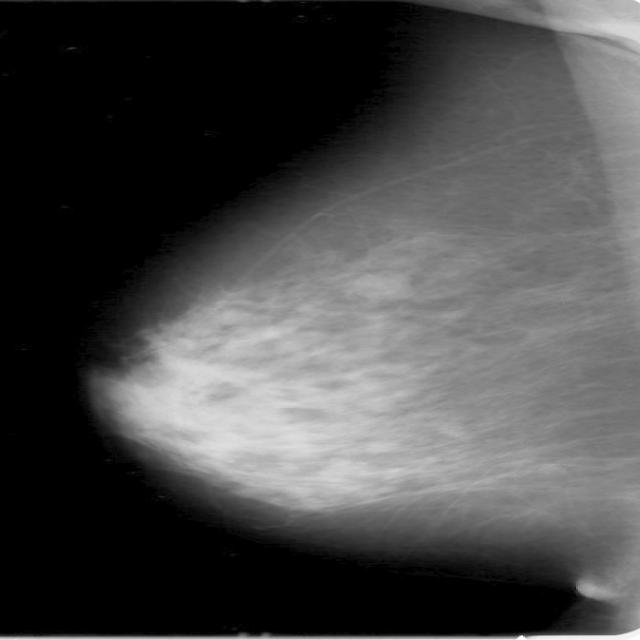tumour: (349, 270, 414, 300)
